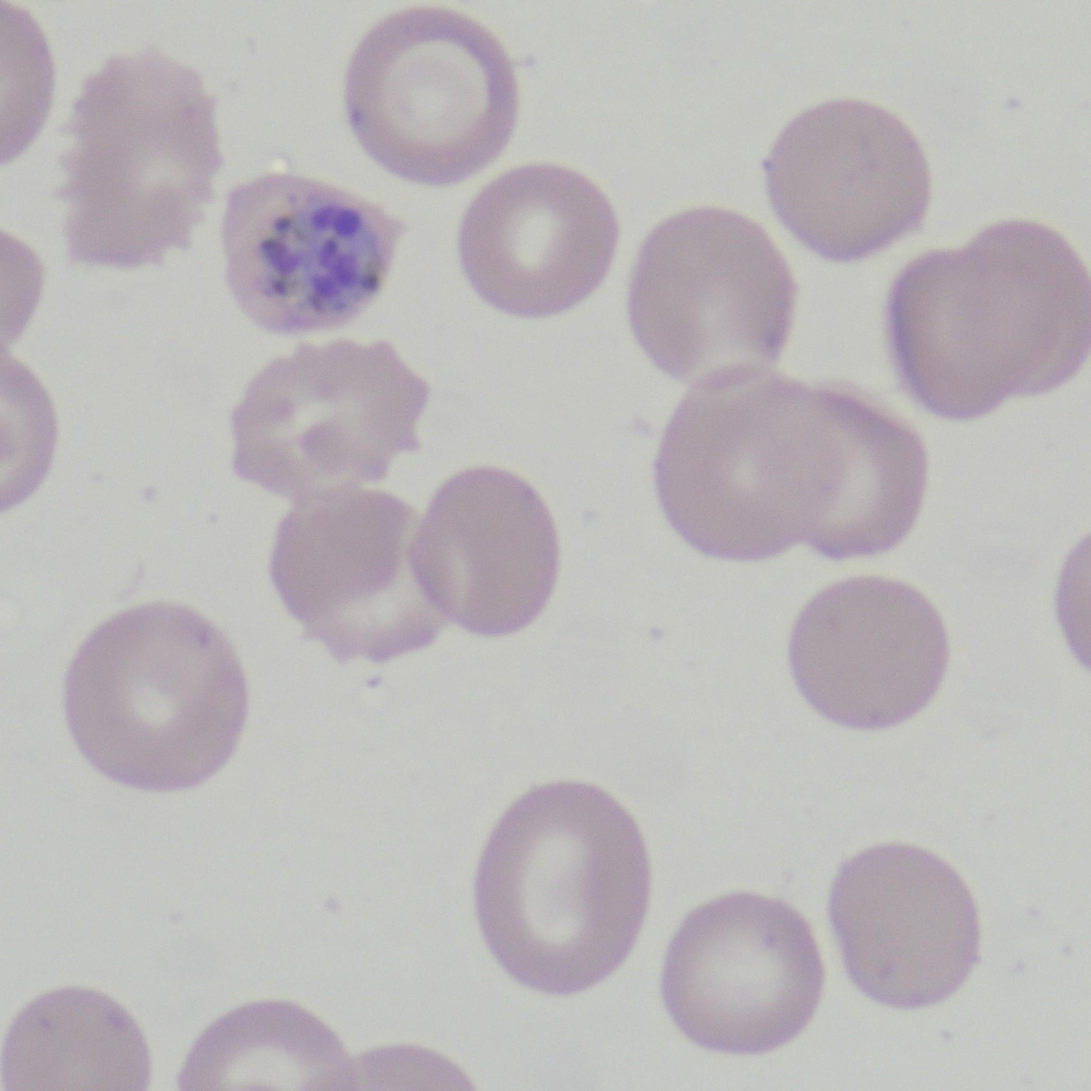Infected: (219, 172, 403, 338)
Uninfected: (657, 376, 921, 564), (891, 223, 1091, 417), (58, 600, 251, 794), (473, 782, 648, 994), (59, 53, 222, 262), (338, 14, 525, 185), (231, 338, 427, 499), (628, 210, 795, 380), (657, 893, 829, 1057), (762, 99, 933, 259), (270, 490, 433, 657), (826, 843, 980, 1011), (787, 576, 950, 731), (455, 164, 620, 317), (411, 468, 559, 636)
